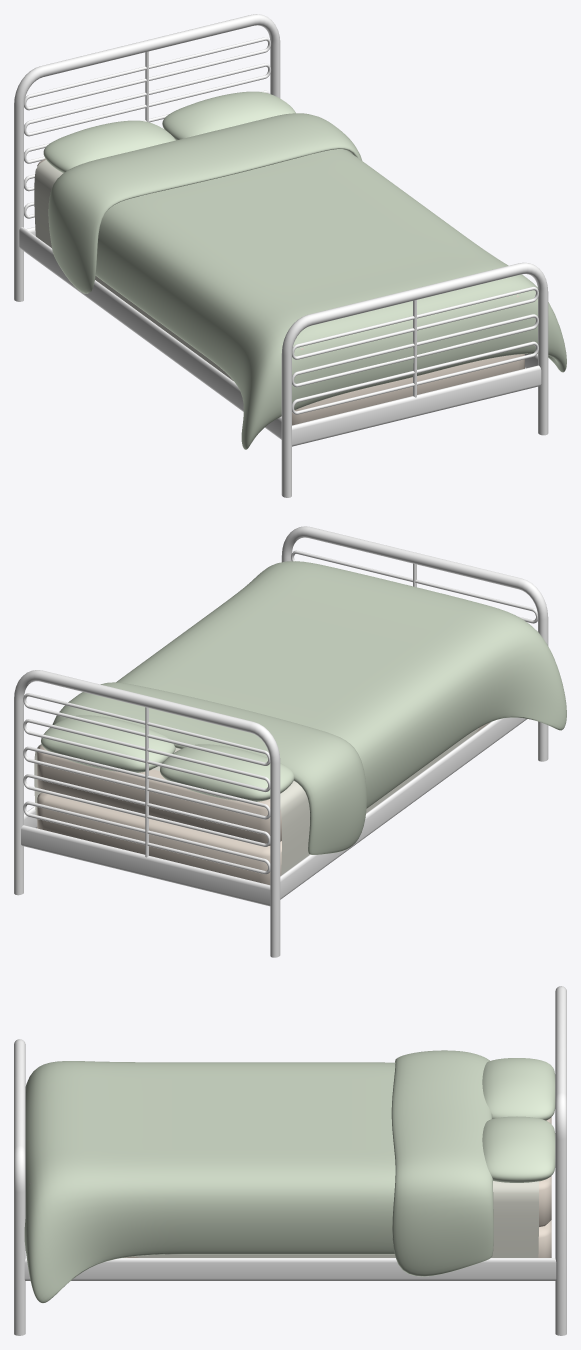
The model's file is bed1.glb.
3 views of the same model, one above another, from view 1: azimuth 30°, elevation 25°; view 2: azimuth 150°, elevation 25°; view 3: azimuth 270°, elevation 25° (orthographic).
Visible parts, largest first — view 1: Plane.003_Plane.004, Circle, Cube.009_Cube.010, Cube.008_Cube.006, Cube.010_Cube.011, Plane.004_Plane.005; view 2: Plane.003_Plane.004, Circle, Cube.008_Cube.006, Cube.007_Cube.004, Cube.010_Cube.011, Cube.009_Cube.010, Plane.004_Plane.005; view 3: Plane.003_Plane.004, Circle, Plane.004_Plane.005, Cube.010_Cube.011, Cube.009_Cube.010, Cube.007_Cube.004, Cube.008_Cube.006.
Boxes of the visible parts, x1,y1,x2,y2 form: Plane.003_Plane.004: (48,113,566,449); Circle: (14,14,548,497); Cube.009_Cube.010: (43,120,175,172); Cube.008_Cube.006: (231,354,524,425); Cube.010_Cube.011: (162,91,295,140); Plane.004_Plane.005: (34,160,231,378); Plane.003_Plane.004: (52,561,566,854); Circle: (14,526,548,957); Cube.008_Cube.006: (37,722,490,884); Cube.007_Cube.004: (37,745,281,845); Cube.010_Cube.011: (41,715,175,772); Cube.009_Cube.010: (160,744,294,801); Plane.004_Plane.005: (34,728,478,875); Plane.003_Plane.004: (24,1050,493,1303); Circle: (14,986,566,1335); Plane.004_Plane.005: (136,1181,538,1257); Cube.010_Cube.011: (482,1116,555,1182); Cube.009_Cube.010: (482,1058,555,1120); Cube.007_Cube.004: (29,1077,551,1226); Cube.008_Cube.006: (123,1220,551,1257).
Size of the model in its own units: 1.41 by 0.9547 by 2.08.
